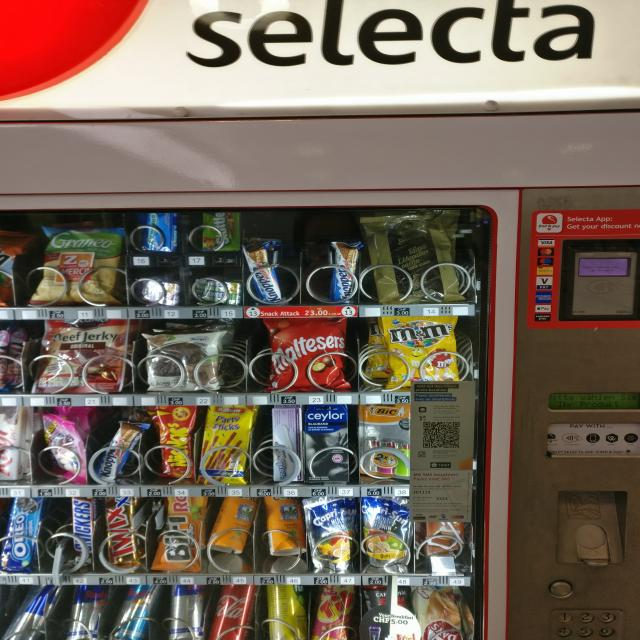7days_croissantschoko_packung_80_1_0000000000003: (414, 584, 465, 640)
airwaves_menthoneucalyptus_riegel_14_1_50173167: (136, 212, 178, 253)
bifi_roll__50__4251097402635: (158, 494, 201, 574)
c-swiss_dosenabisicetea__33__9120025930135: (207, 493, 261, 559), (260, 493, 310, 558)
caferoyal_classicmacchiato__33__7617014164487: (365, 581, 410, 631)
caprisun_multivitamin__20__4000177605004: (303, 497, 362, 574), (365, 495, 417, 571)
coke__dose_33__54491472: (208, 583, 264, 639)
fini_jellykisses_packung_80_1_8410525116704: (36, 408, 91, 484)
fuse_lemon_dose_33__5449000235947: (264, 581, 312, 640)
jacklinks_beefjerkyorginal__25__4047751730219: (31, 316, 130, 389)
jlbrichard_gauffre__90__5410495002000: (365, 214, 464, 303)
knoppers_riegel____4035800488808: (95, 418, 147, 484), (241, 238, 290, 304), (323, 236, 364, 305)
lorenz_nicnacs__40__4018077798818: (152, 403, 197, 480)
malburner_partysticks__40__7610200279682: (202, 401, 255, 484)
maltesers___100__5000159023061: (262, 316, 357, 387)
mnms_gelb__45__40111445: (382, 314, 464, 387)
oreo___66__84100733: (1, 496, 42, 570)
redbull___33__90162909: (3, 584, 58, 640), (111, 581, 160, 640), (63, 581, 109, 640), (164, 582, 206, 640)
skittles_sour_riegel_51_1_0000000000004: (202, 207, 241, 249)
snickers___50__5000159461122: (64, 495, 98, 574)
stimorol_spearmint_riegel_14_1_0000000000005: (192, 276, 240, 305)
stimorol_wildcherry_riegel_14_1_57060330: (135, 279, 180, 303)
tiki_himbeer_brause__50__00000000009342: (313, 582, 362, 638)
twix___50__5000159459228: (100, 494, 143, 569)
zweifel_graneochilli__100__7610095184009: (31, 220, 121, 304)
